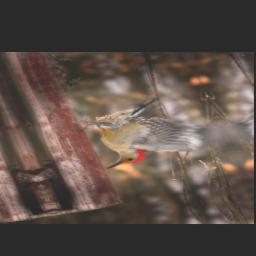Woodpecker: (77, 90, 231, 171)
